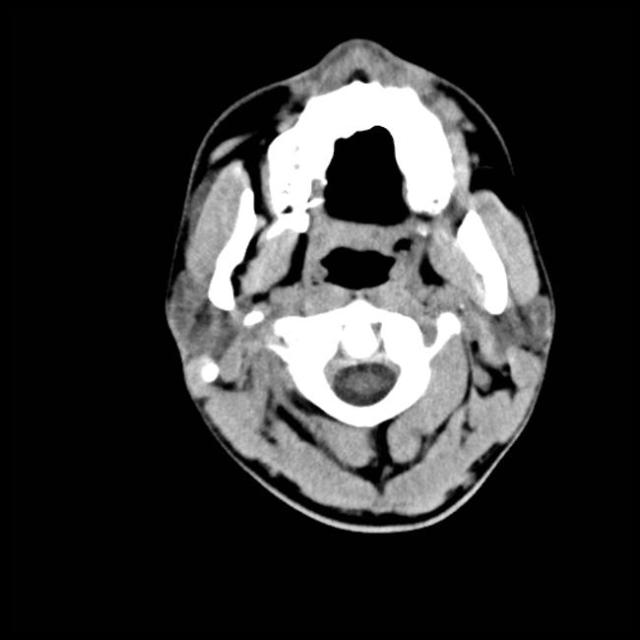lesion: (162, 38, 560, 534)
